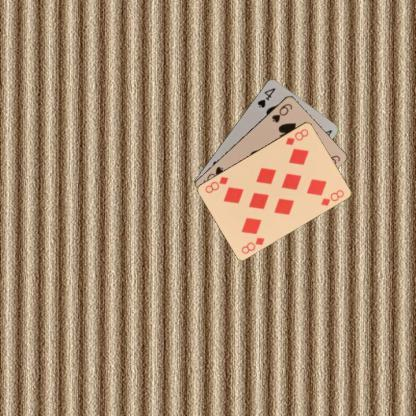4s: (255, 85, 277, 109)
6s: (269, 100, 294, 124)
8d: (282, 126, 310, 146), (238, 234, 266, 254)
